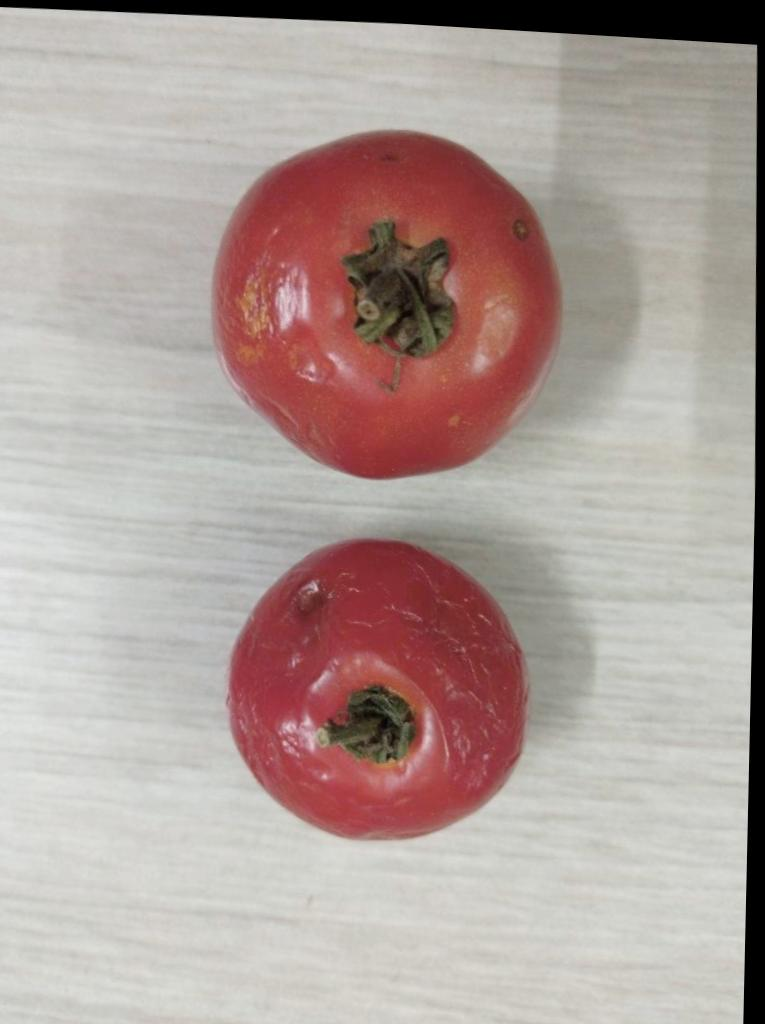bruise_discoloration: (212, 240, 278, 369), (291, 343, 334, 380), (294, 580, 329, 616)
surface_damage: (512, 220, 526, 241)
tomato: (212, 133, 558, 479), (226, 542, 526, 838)
